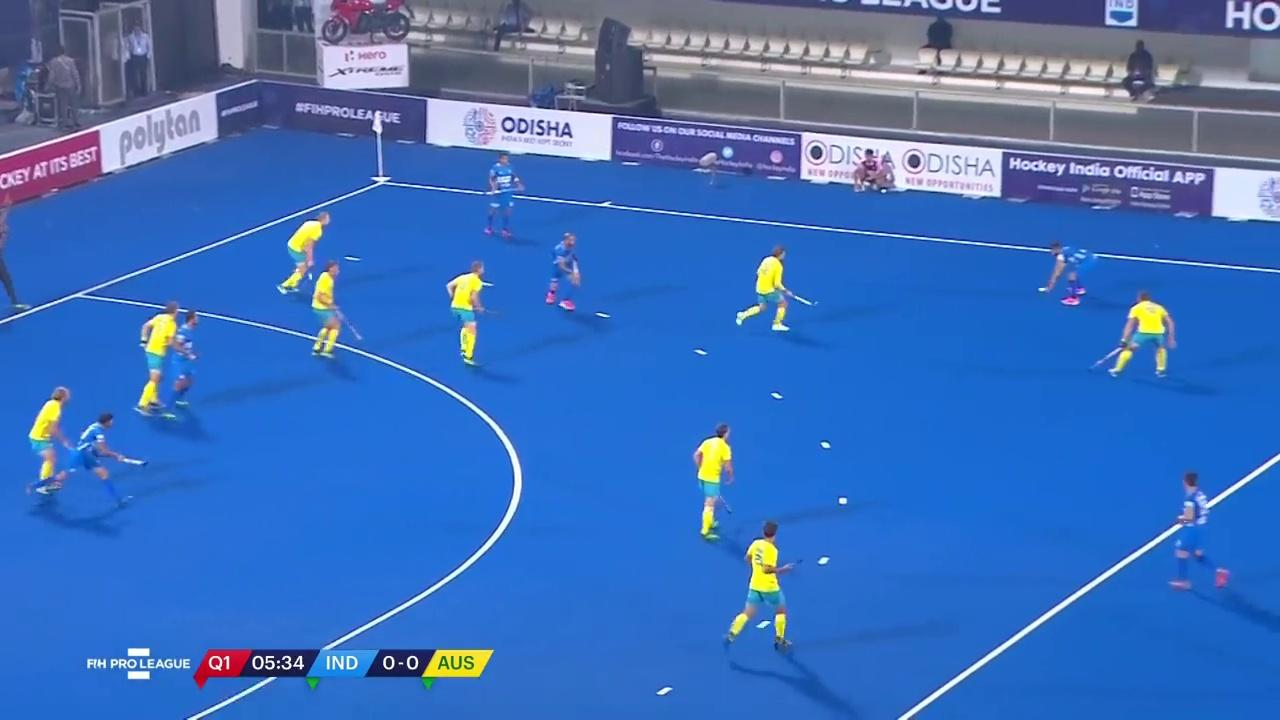ball: (1035, 284, 1052, 299)
